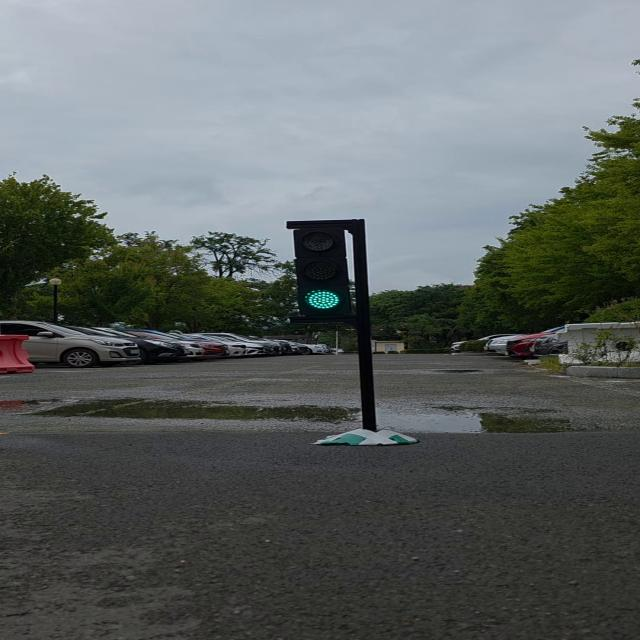green: (292, 222, 366, 320)
